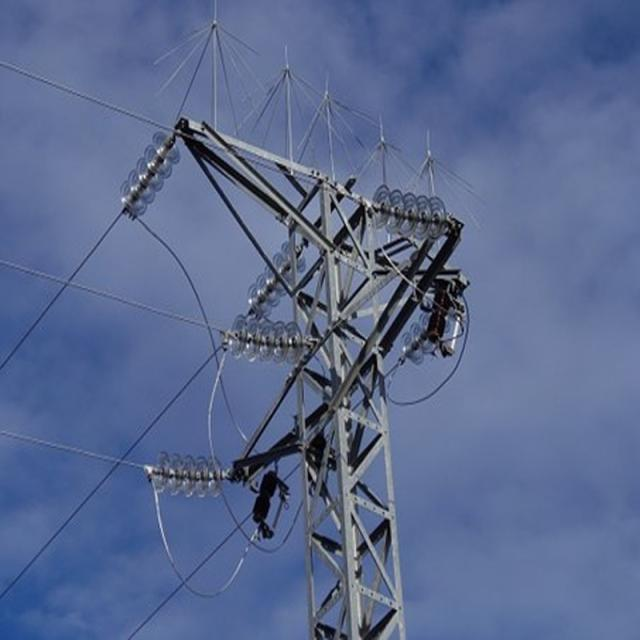non-critical vegetation: (100, 49, 470, 636)
